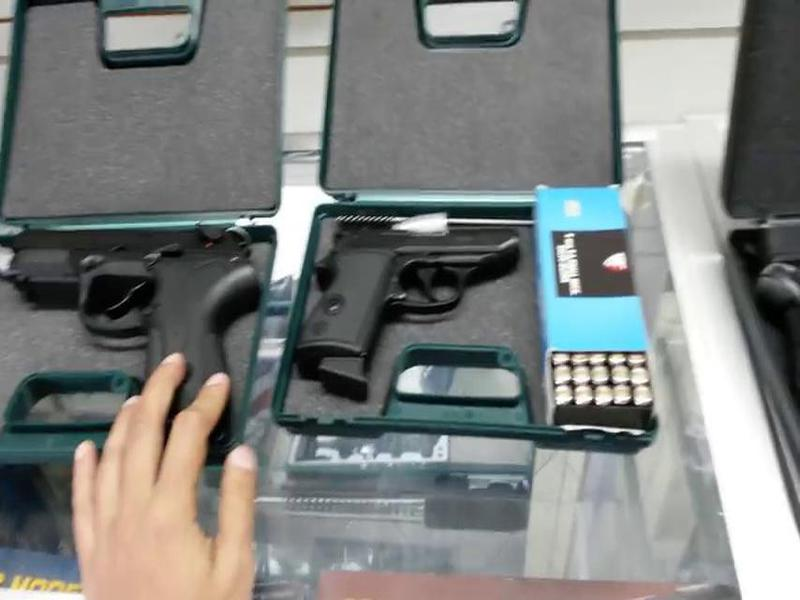Pistola: (7, 217, 256, 438), (294, 215, 534, 387)
